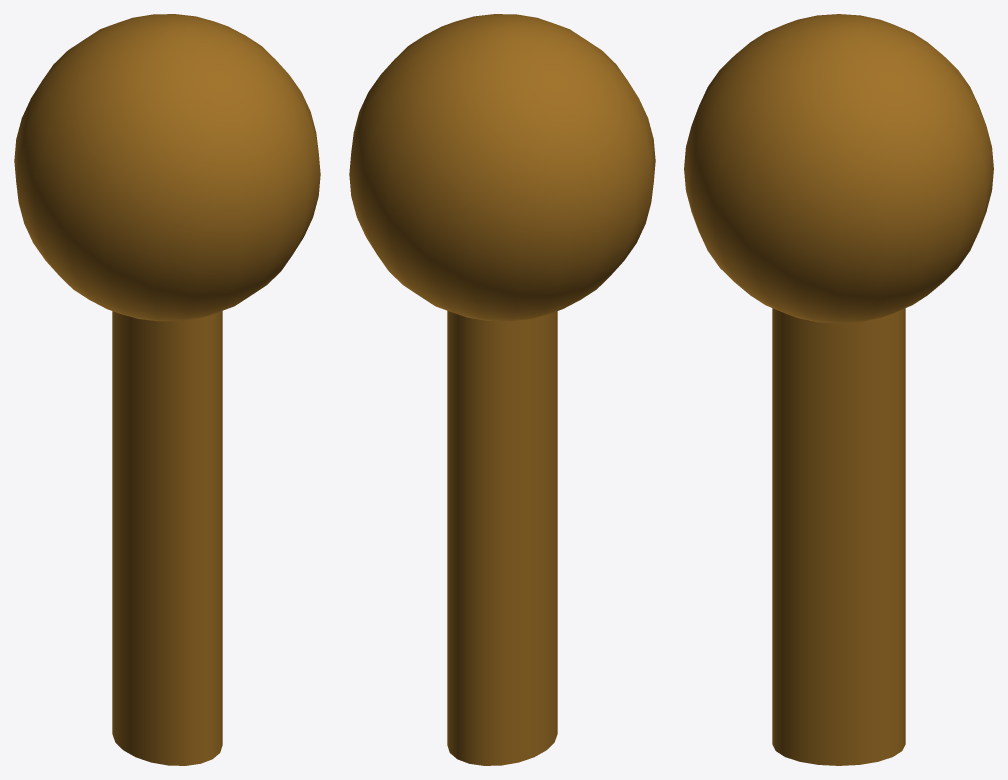
Rendered from Bulb05.fbx.
3 views of the same model, side by side, from view 1: azimuth 30°, elevation 25°; view 2: azimuth 150°, elevation 25°; view 3: azimuth 270°, elevation 25° (orthographic).
Visible parts, largest first — view 1: polySurface132; view 2: polySurface132; view 3: polySurface132.
Part boxes in pixels (x1,y1,x2,y2): polySurface132: (14, 14, 320, 765); polySurface132: (349, 14, 655, 765); polySurface132: (684, 14, 993, 765).
Size of the model in its own units: 0.1875 by 0.4779 by 0.1875.
